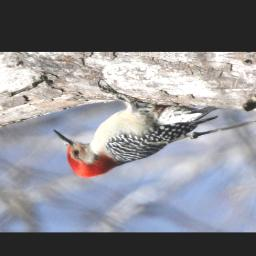Woodpecker: (49, 73, 227, 185)
